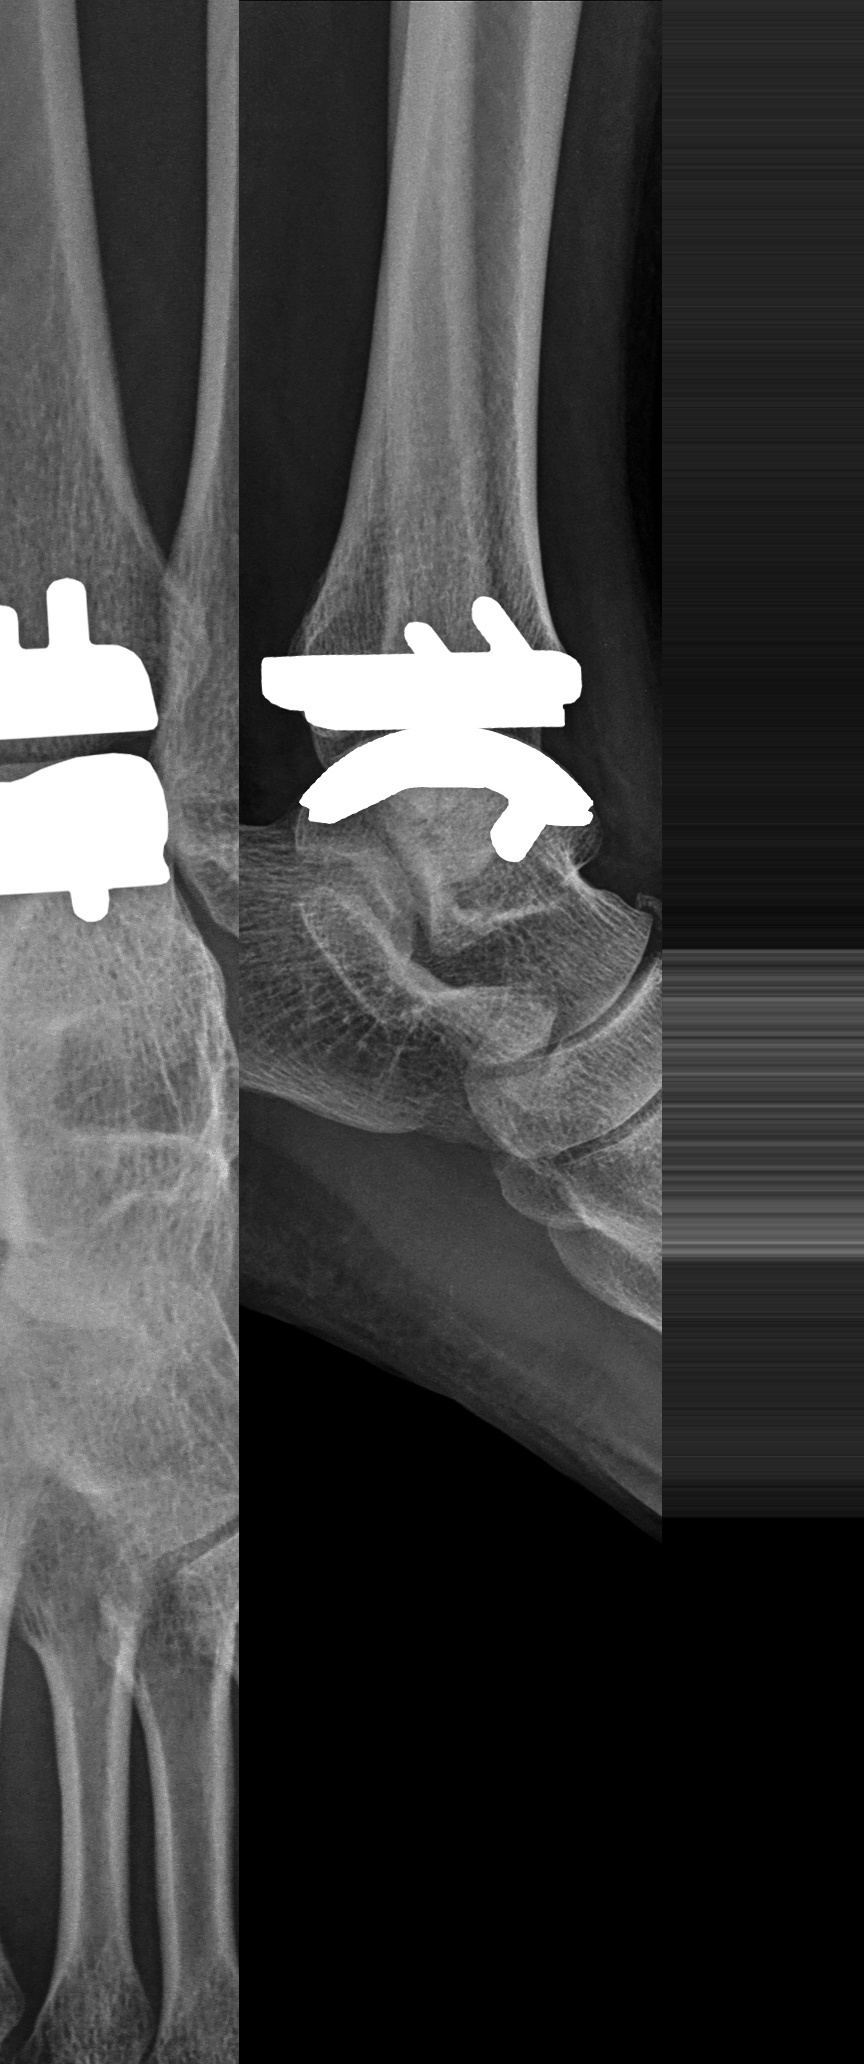Ankle - Infinity - Wright: (248, 587, 622, 887), (1, 544, 173, 937)
